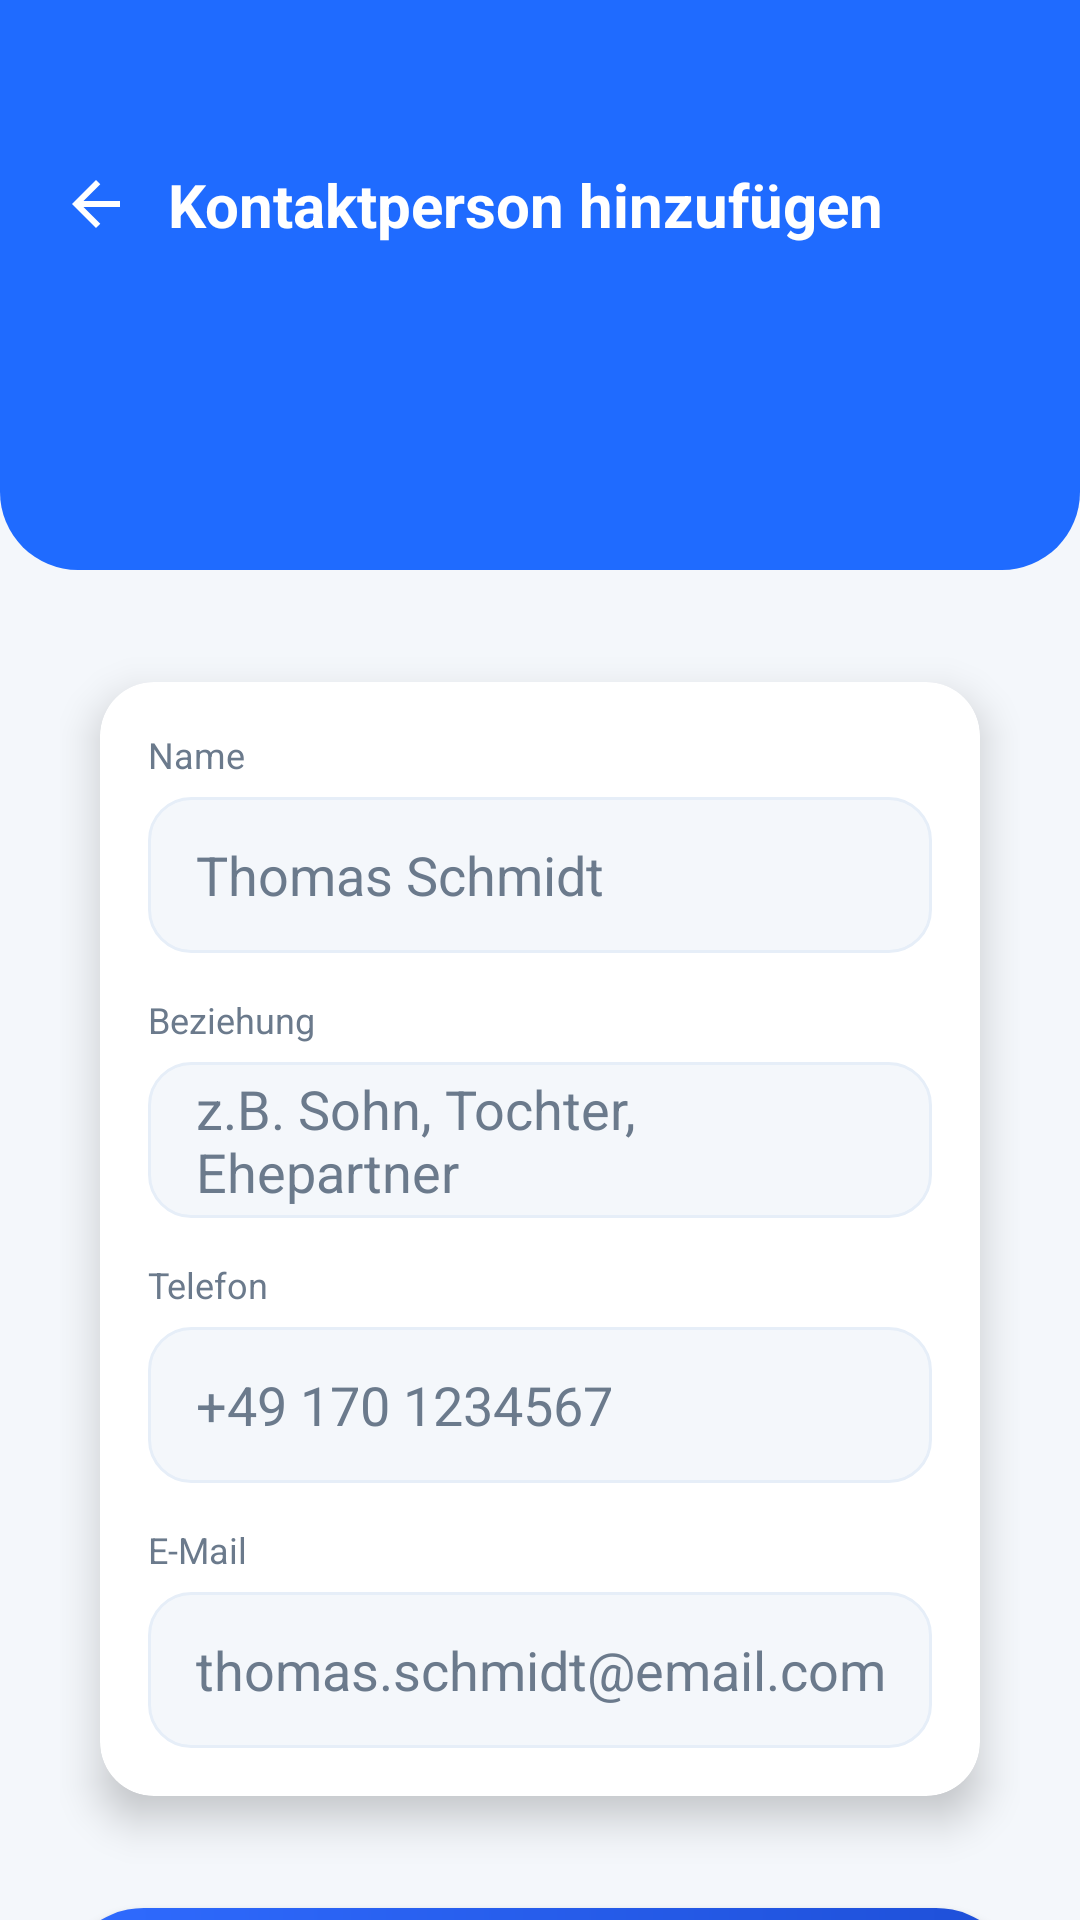

Where to tap for icons on this 1080w x 1920h app screen, as (x=x, y=y):
back: (x=96, y=204)
